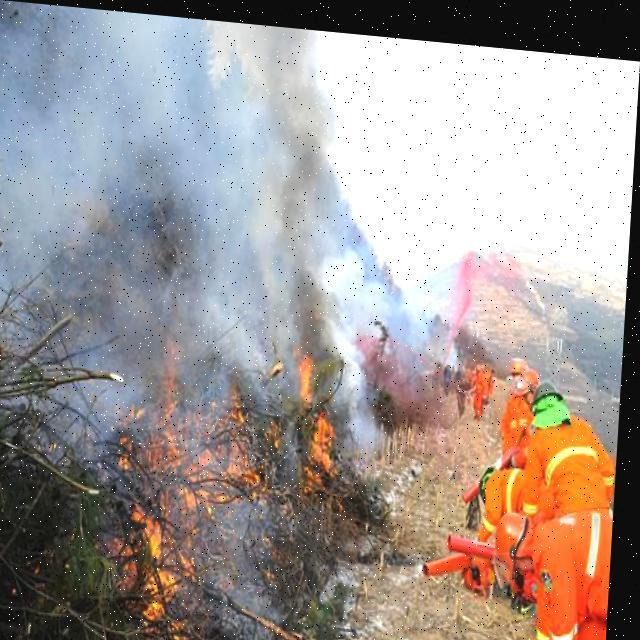Fire: (110, 322, 361, 639)
